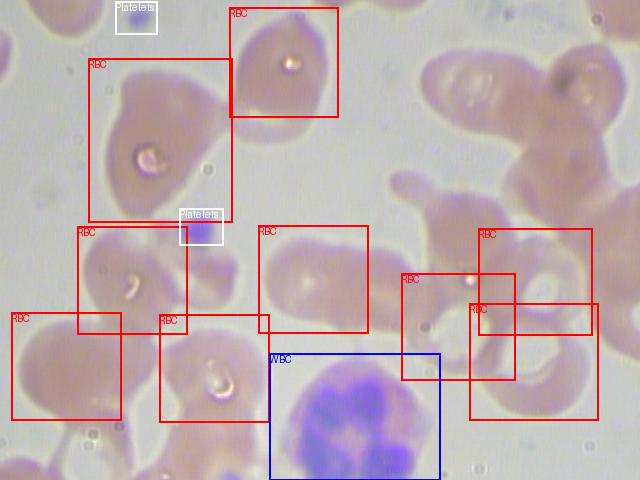Platelets: (179, 208, 223, 245), (115, 1, 157, 34)
RBC: (88, 58, 232, 222), (469, 303, 598, 420), (401, 273, 515, 380), (478, 228, 592, 335), (229, 7, 338, 117), (258, 225, 368, 333), (77, 226, 187, 334), (159, 314, 269, 422), (11, 312, 121, 420)
WBC: (269, 353, 440, 480)
